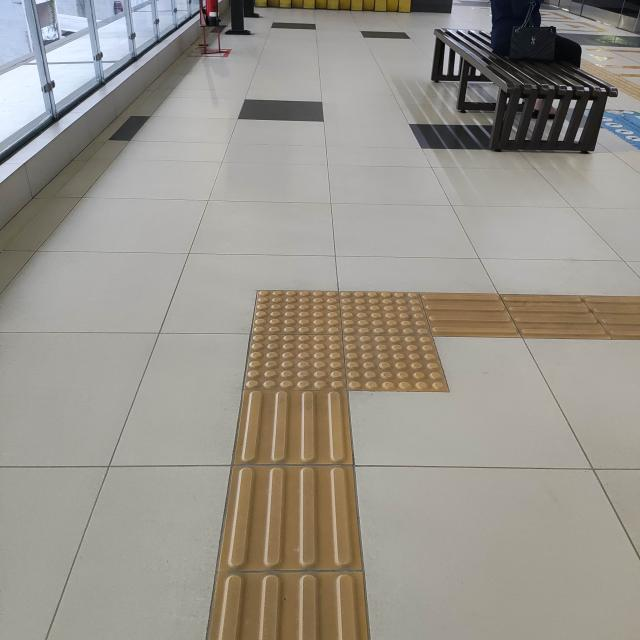kanan: (190, 251, 587, 442)
